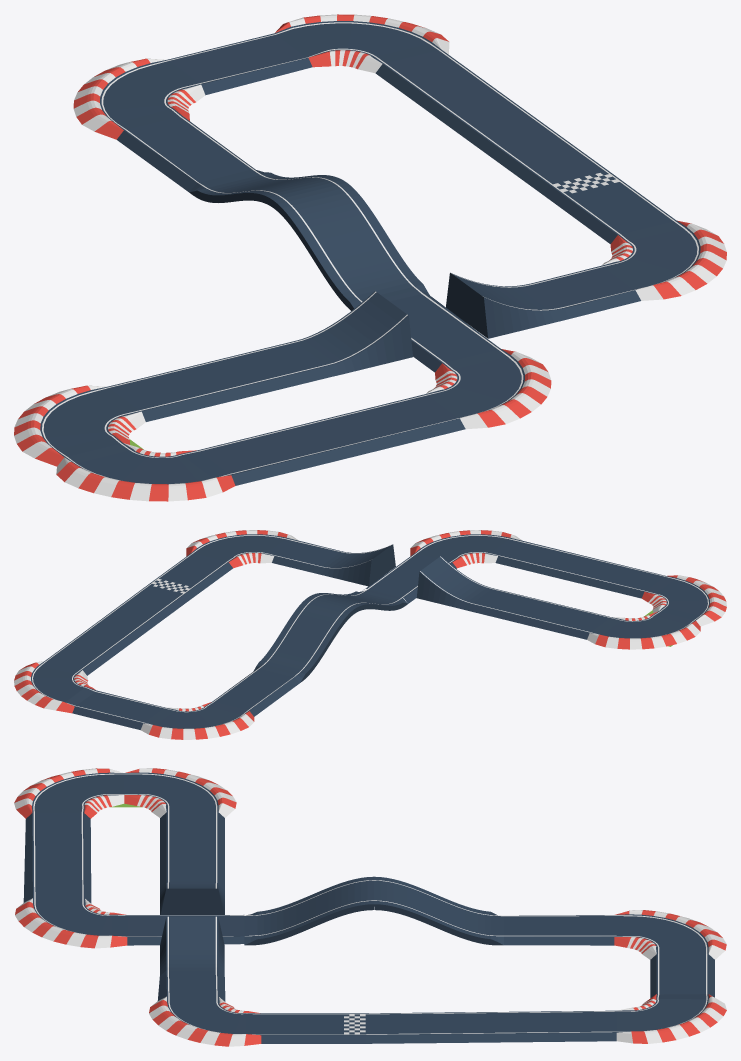
Rendered from circuito.fbx.
3 views of the same model, one above another, from view 1: azimuth 30°, elevation 25°; view 2: azimuth 150°, elevation 25°; view 3: azimuth 270°, elevation 25° (orthographic). The views are drawn at different scales.
Visible parts, largest first — view 1: circuito; view 2: circuito; view 3: circuito.
Boxes of the visible parts, <box> form: circuito: <box>14,14,726,501</box>; circuito: <box>14,530,726,739</box>; circuito: <box>14,768,726,1046</box>.
Size of the model in its own units: 101 by 7.03 by 110.
